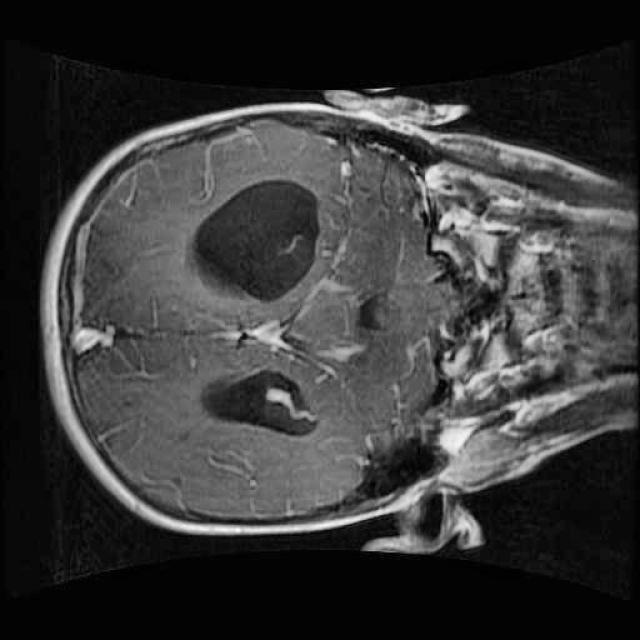Non-Tumor: (270, 262, 395, 382)
